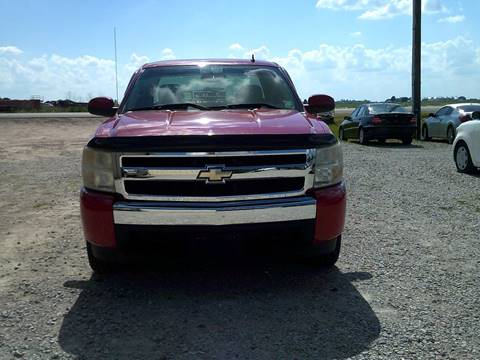car: (81, 25, 349, 270)
